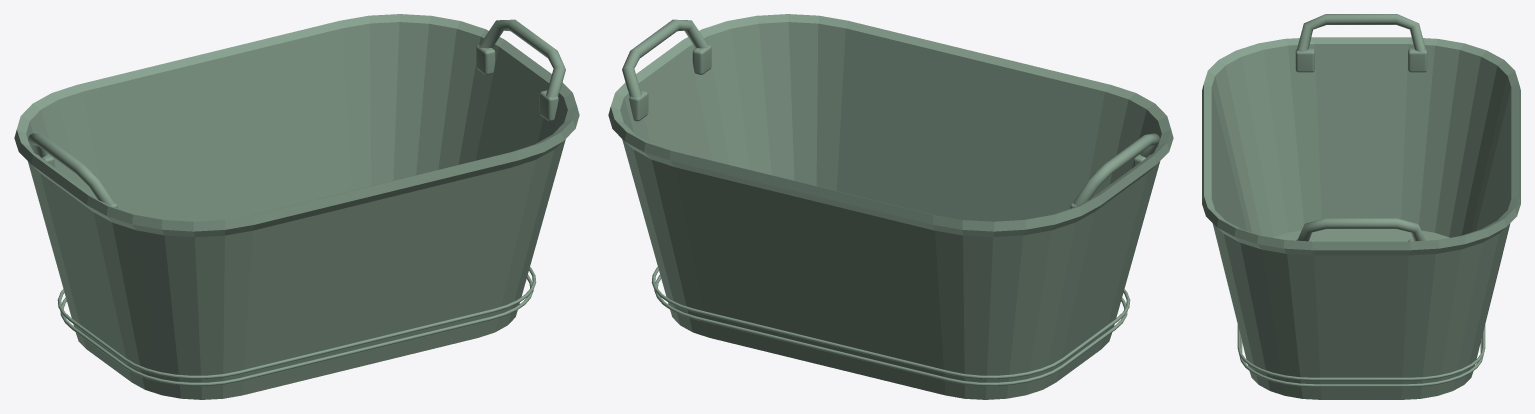
Rendered from laundry-carry-basket.glb.
3 views of the same model, side by side, from view 1: azimuth 30°, elevation 25°; view 2: azimuth 150°, elevation 25°; view 3: azimuth 270°, elevation 25° (orthographic). The views are drawn at different scales.
Visible parts, largest first — view 1: laundry-carry-basket authored assembly; view 2: laundry-carry-basket authored assembly; view 3: laundry-carry-basket authored assembly.
Boxes of the visible parts, x1,y1,x2,y2 form: laundry-carry-basket authored assembly: (14, 14, 579, 399); laundry-carry-basket authored assembly: (608, 14, 1173, 399); laundry-carry-basket authored assembly: (1202, 14, 1520, 399).
Size of the model in its own units: 0.62 by 0.28 by 0.4.
